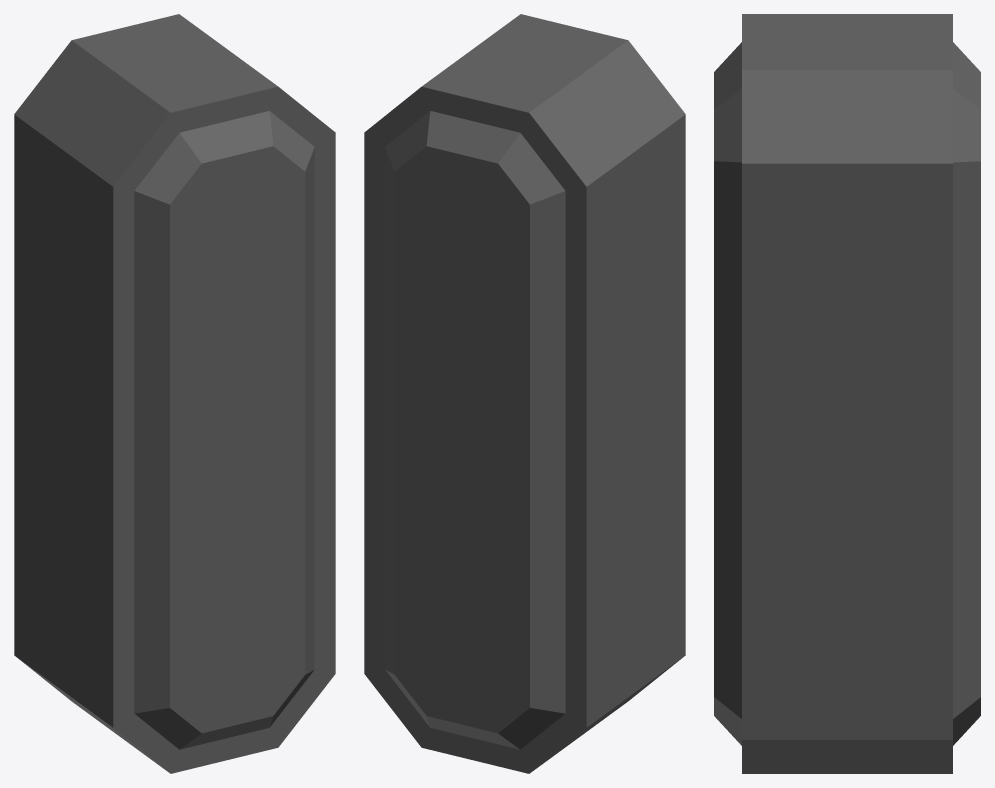
Rendered from Doorway_Double_7_doorway_door_7_0.obj.
The picture shows the model from 3 angles, left to right: view 1: azimuth 30°, elevation 25°; view 2: azimuth 150°, elevation 25°; view 3: azimuth 270°, elevation 25°; orthographic projection. The views are drawn at different scales.
Size of the model in its own units: 0.0844 by 0.2398 by 0.0823.
